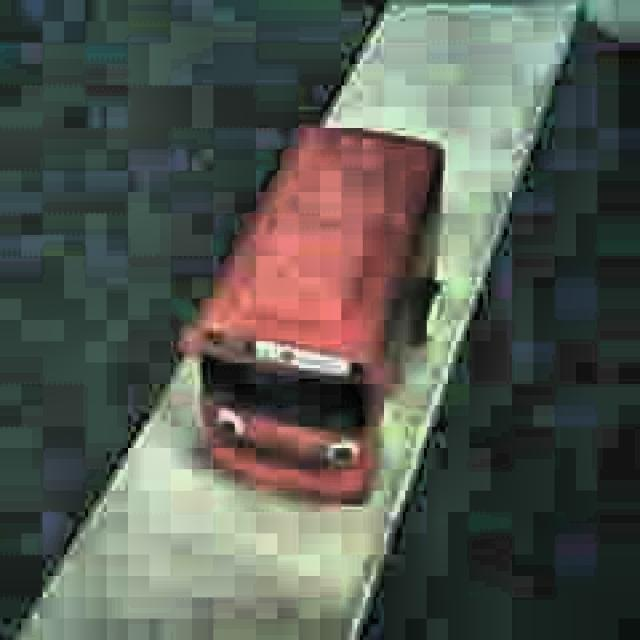bus: (178, 122, 446, 511)
